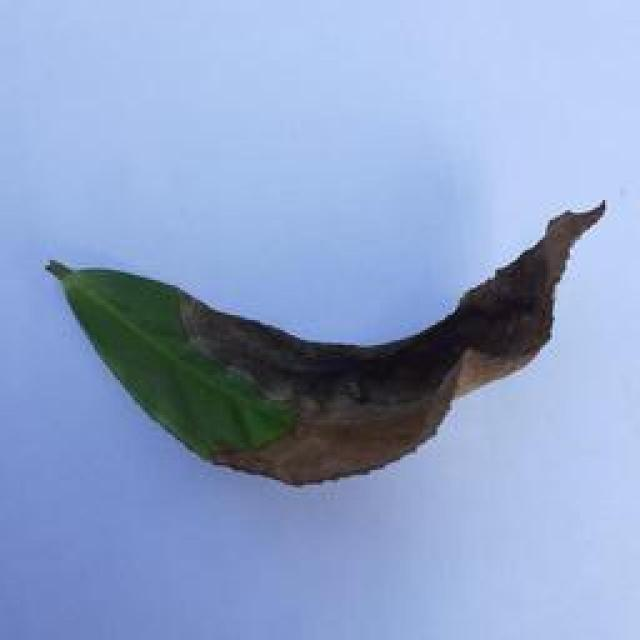Brown Blight: (47, 187, 618, 483)
